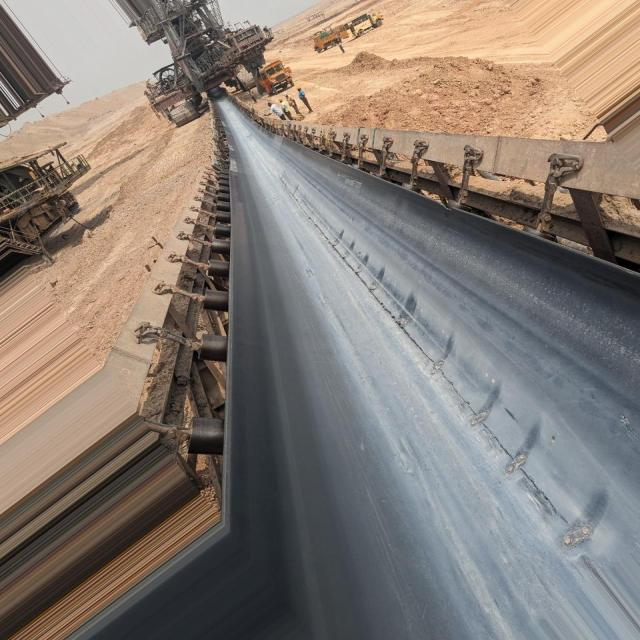Human: (283, 93, 304, 116), (264, 102, 287, 121), (298, 88, 314, 110), (279, 99, 294, 120)
Roller: (200, 188, 240, 458)
patch work: (287, 195, 633, 563)
